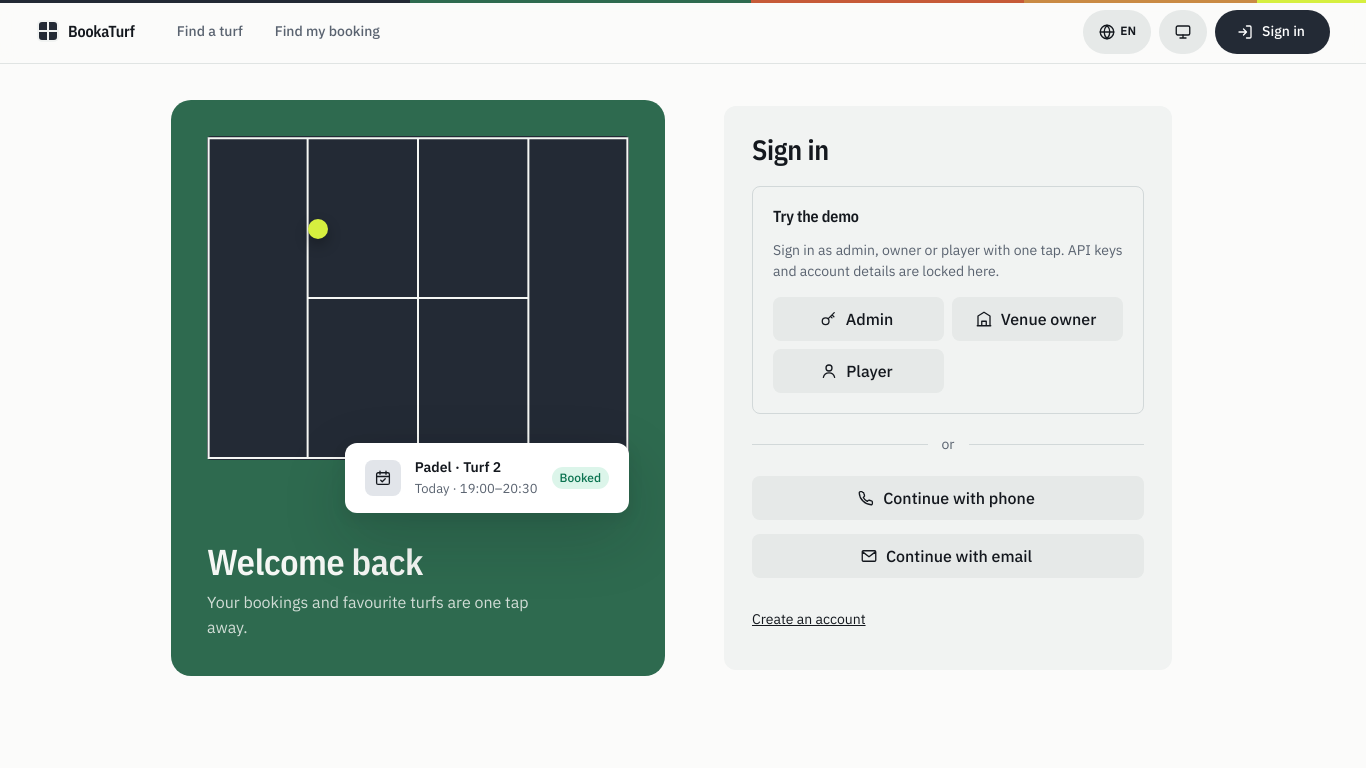
Scenario: demo sign-in › shows the reason when the demo data is missing
Click the button "Admin".
click(858, 319)  # box [773,297,944,341]
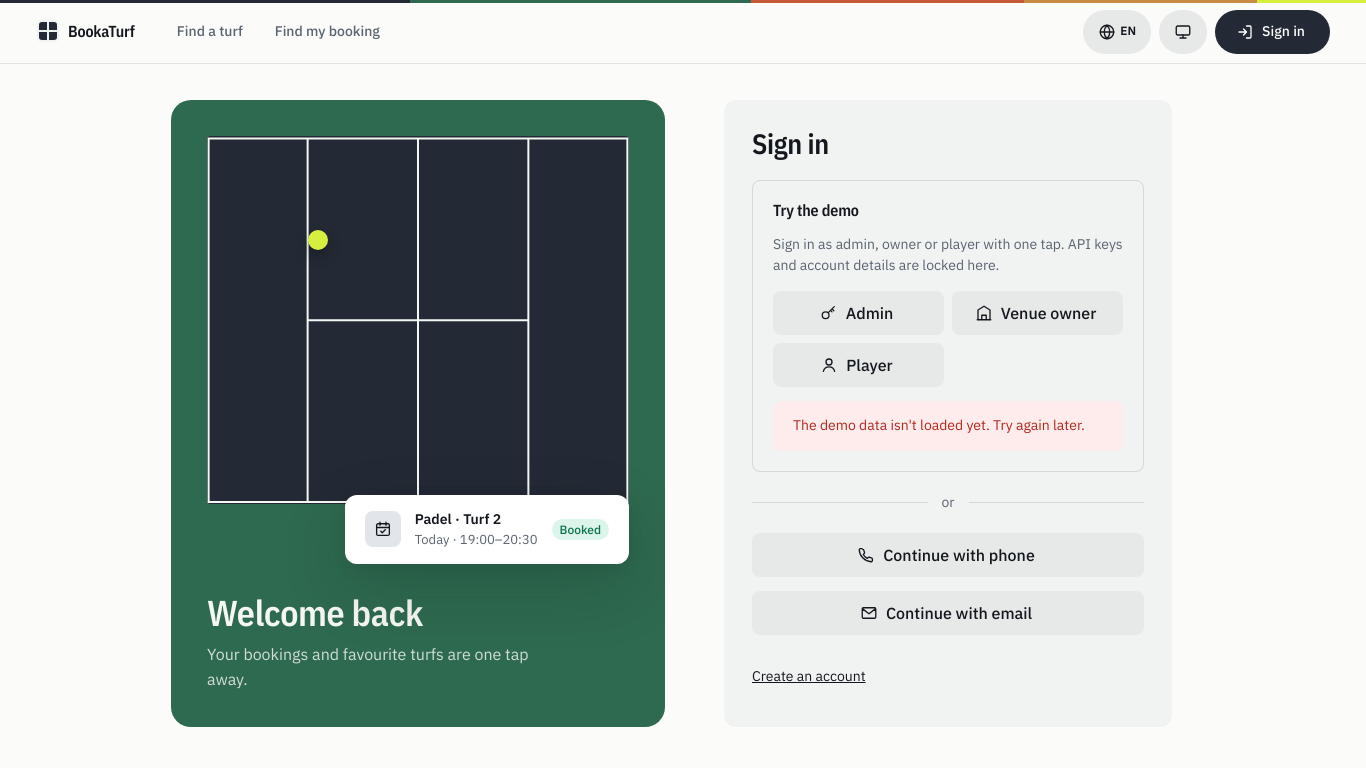
Expected: the message reads "The demo data isn't loaded yet. Try again later.", [793,416,1085,434]
